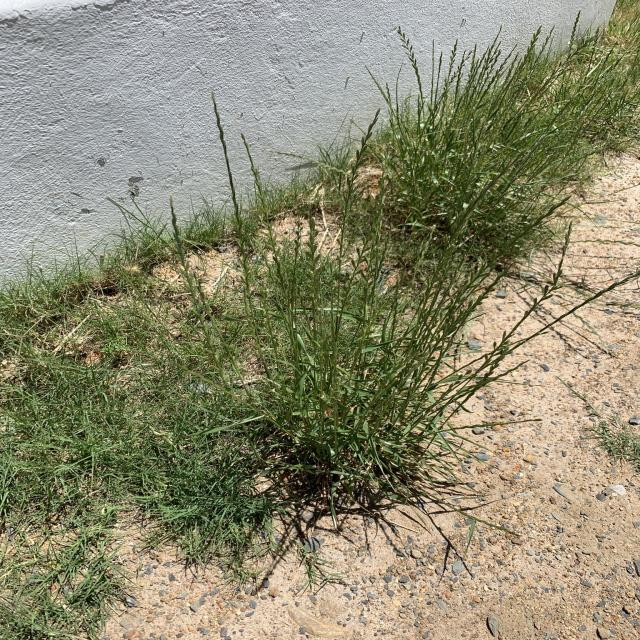Lolium: (226, 217, 452, 506), (345, 28, 591, 278), (349, 108, 384, 186), (393, 23, 419, 71), (523, 25, 544, 68), (566, 10, 583, 49), (484, 50, 502, 84), (448, 38, 460, 72), (470, 44, 481, 80)
